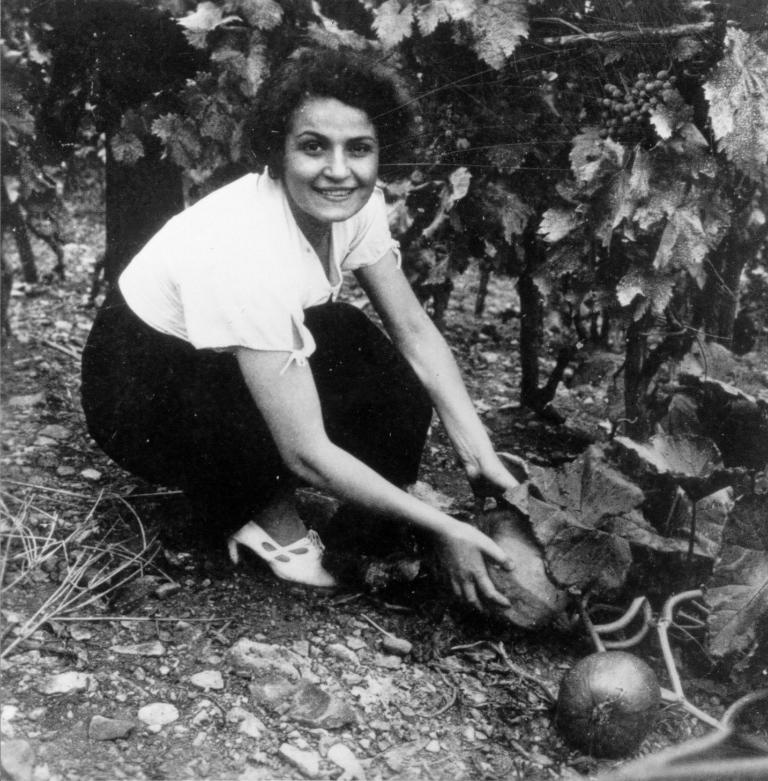Footwear: (230, 505, 348, 591)
